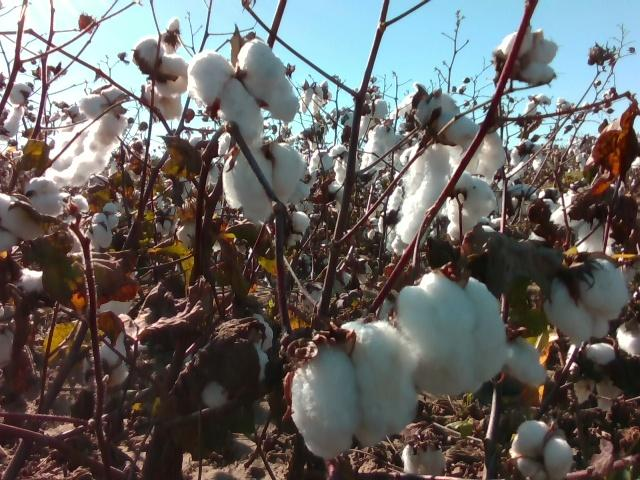cotton_ready: (289, 322, 414, 460), (400, 272, 512, 395), (189, 41, 299, 149), (43, 90, 127, 188), (542, 259, 634, 341), (198, 316, 274, 411), (224, 141, 302, 221), (399, 140, 450, 243), (404, 91, 479, 144), (511, 420, 576, 480), (496, 25, 557, 86), (447, 176, 497, 245), (131, 38, 187, 99), (550, 194, 606, 253), (449, 132, 508, 179), (90, 327, 129, 390), (361, 122, 404, 174), (77, 202, 124, 249), (504, 336, 547, 386), (571, 379, 626, 414), (23, 177, 68, 218), (565, 340, 615, 376), (0, 195, 29, 254), (400, 441, 452, 472), (94, 289, 140, 321), (0, 300, 17, 372), (10, 267, 47, 297), (615, 321, 640, 358)
